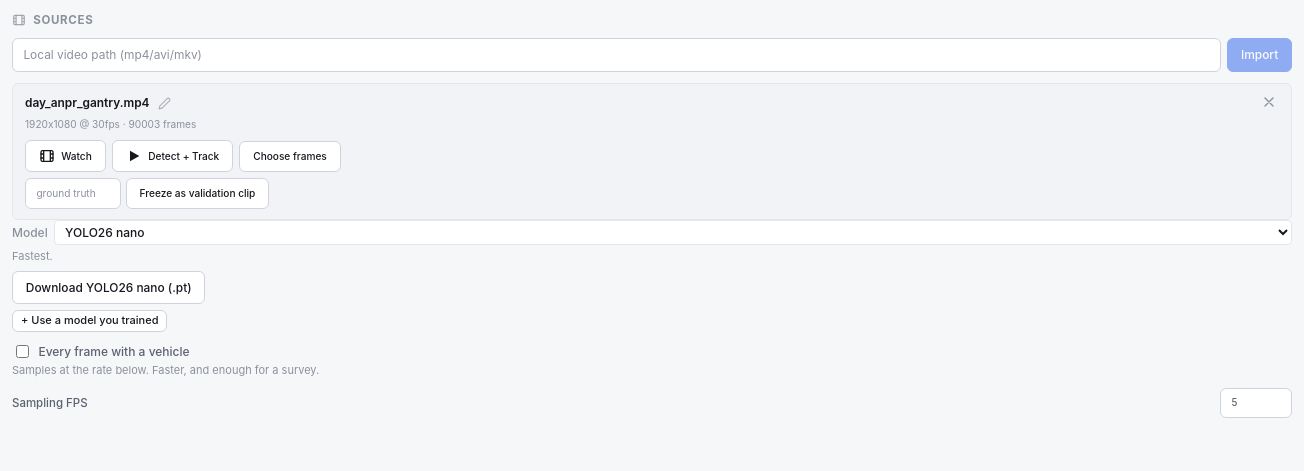
it: Keeping every frame with a vehicle in it › asks again when the mode changes, rather than showing a stale number
Hover over the button "Detect + Track".
mouse_move(172, 156)  # box [112,140,233,172]
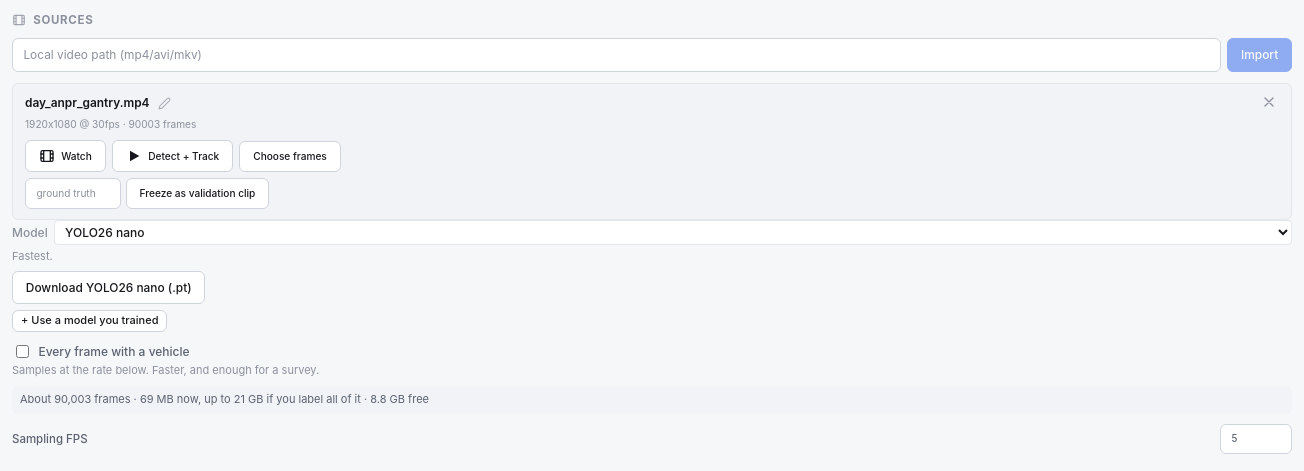
Expected: the text with test id "run-estimate" is shown, [12,386,1292,414]
Click the checkbox labelled "Every frame with a vehicle".
click(22, 351)  # box [16,345,29,358]
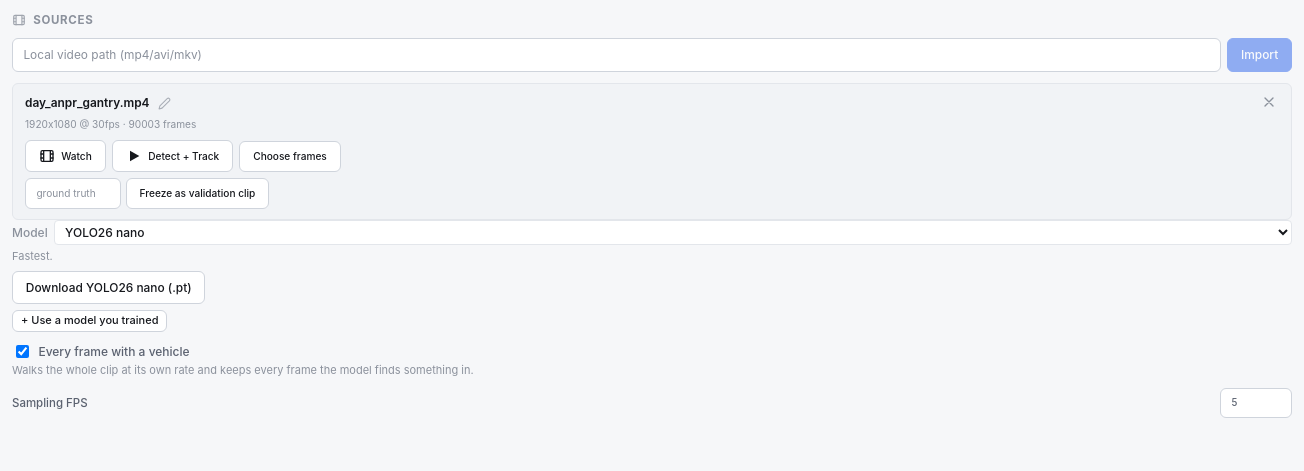
Expected: the text with test id "run-estimate" is gone
